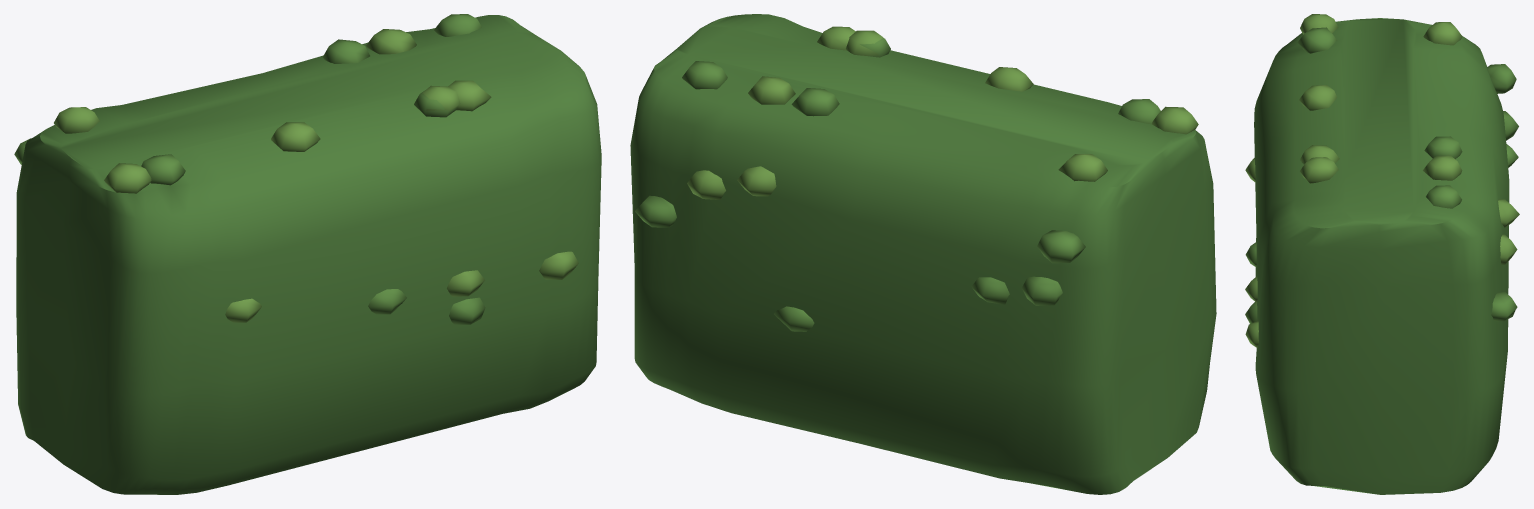
The model's file is streetHedge.glb.
3 renders of one model, left to right at view 1: azimuth 30°, elevation 25°; view 2: azimuth 150°, elevation 25°; view 3: azimuth 270°, elevation 25°, orthographic. The views are drawn at different scales.
Parts seen in each view (by area): view 1: hedge; view 2: hedge; view 3: hedge.
Boxes of the visible parts, left/top/right/bottom form: hedge: left=14, top=14, right=601, bottom=494; hedge: left=630, top=14, right=1216, bottom=494; hedge: left=1245, top=14, right=1519, bottom=494.
Bounding box in the file's own units: 1.55 × 1.02 × 0.85.
